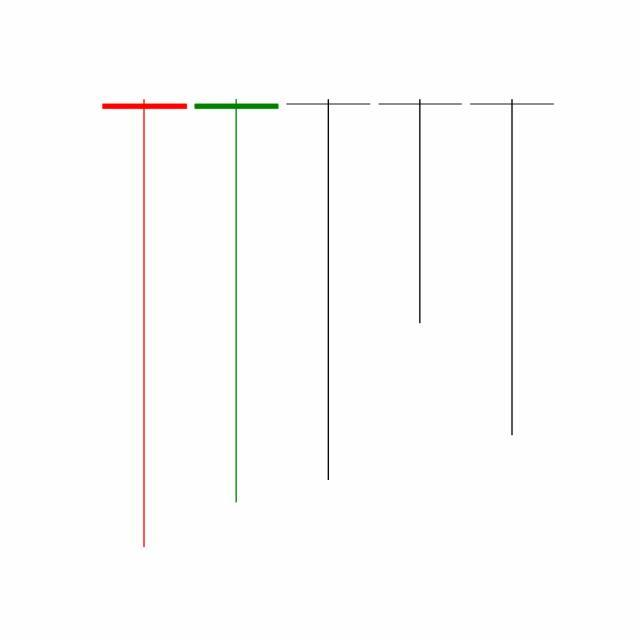Dragonfly Doji: (374, 97, 468, 327)
